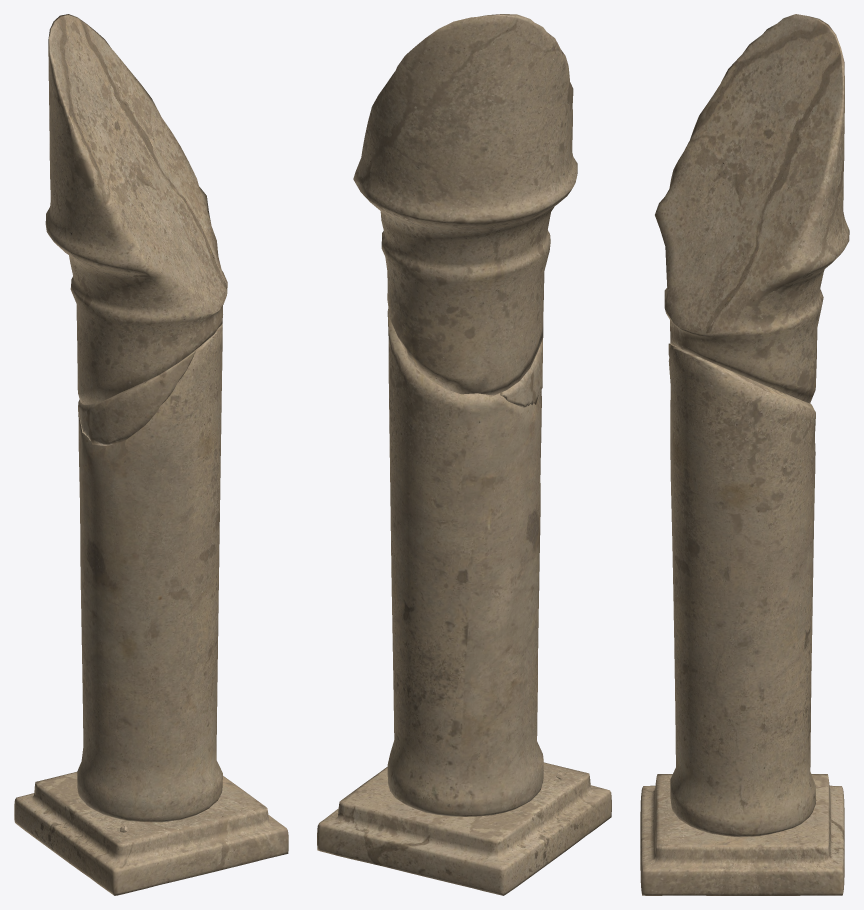
File: kolon_2.fbx
3 renders of one model, left to right at view 1: azimuth 30°, elevation 25°; view 2: azimuth 150°, elevation 25°; view 3: azimuth 270°, elevation 25°, orthographic. The views are drawn at different scales.
Parts seen in each view (by area): view 1: defaultMaterial.004; view 2: defaultMaterial.004; view 3: defaultMaterial.004.
Boxes of the visible parts, x1,y1,x2,y2 form: defaultMaterial.004: (14, 14, 288, 895); defaultMaterial.004: (317, 14, 611, 895); defaultMaterial.004: (640, 14, 849, 895).
Bounding box in the file's own units: 180 × 769 × 181.
